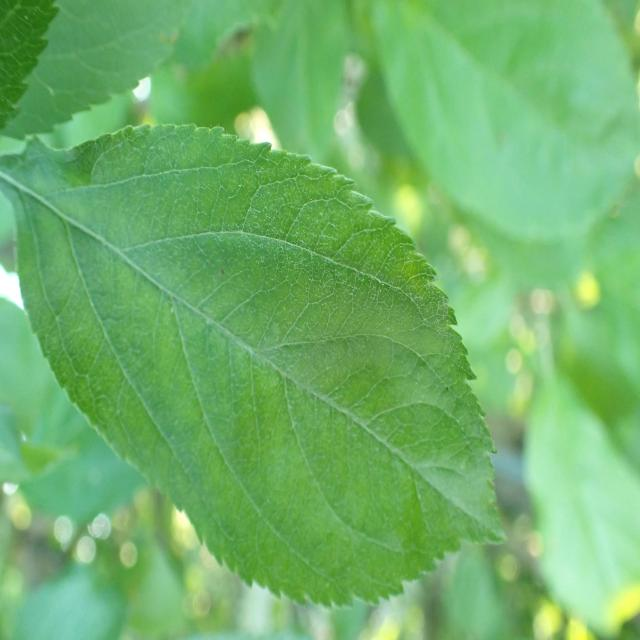healthy: (0, 122, 506, 610), (0, 0, 191, 140)
